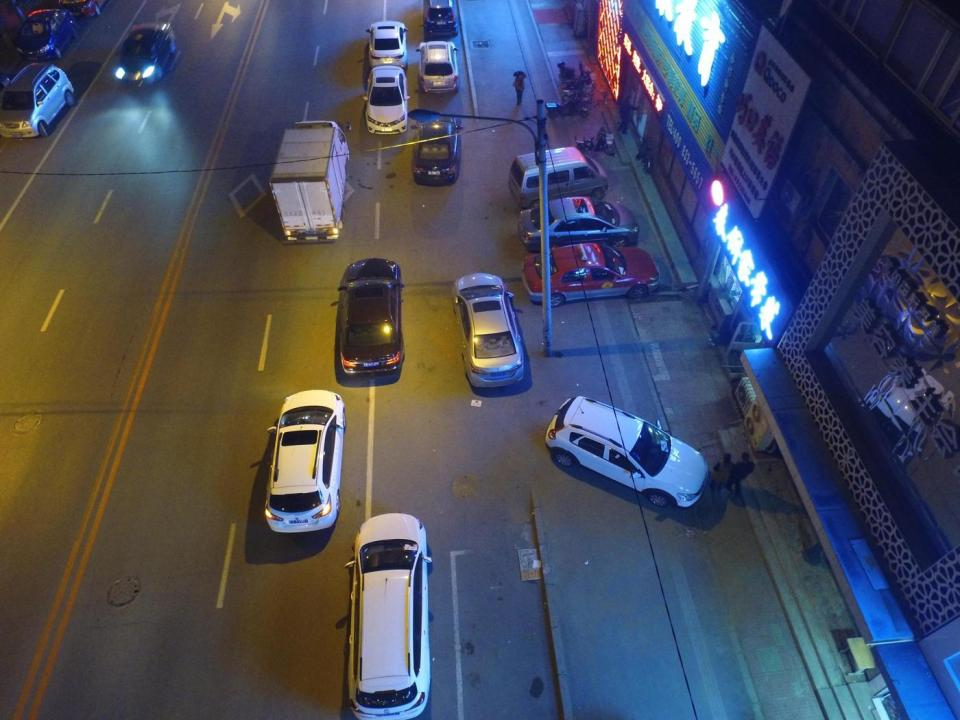car: (545, 394, 708, 514), (264, 390, 346, 536), (451, 273, 526, 388), (337, 258, 406, 375), (522, 248, 660, 304), (518, 198, 639, 249), (0, 63, 75, 142), (113, 23, 175, 89), (414, 108, 461, 186), (363, 64, 411, 136), (18, 8, 76, 59), (420, 39, 460, 97), (369, 20, 409, 72), (424, 0, 457, 38)
truck: (270, 119, 351, 244)
van: (343, 510, 430, 719), (507, 146, 609, 202)
